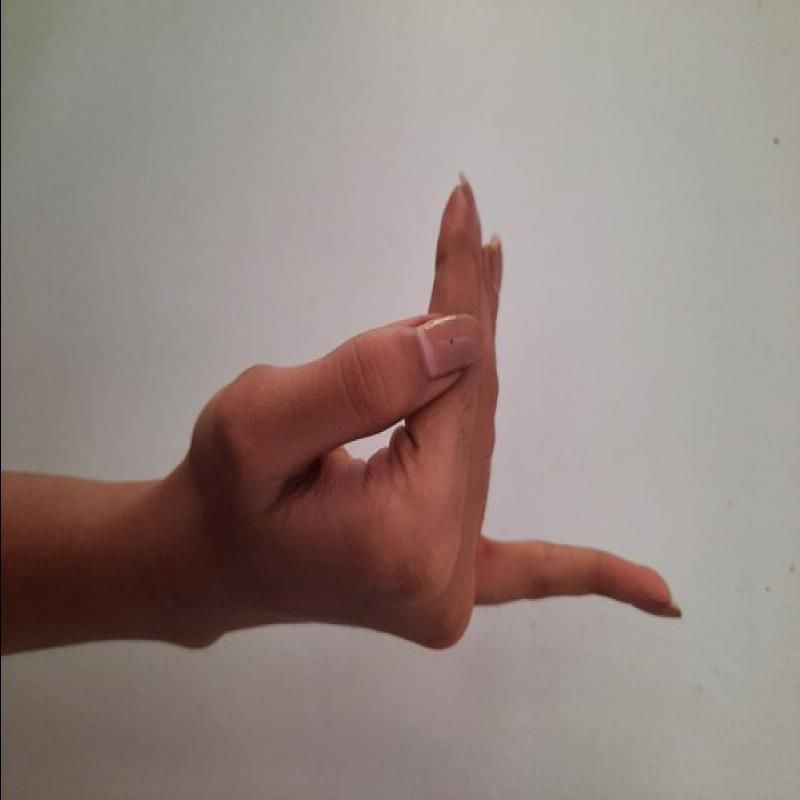Kartharee Mukham: (155, 170, 691, 663)
